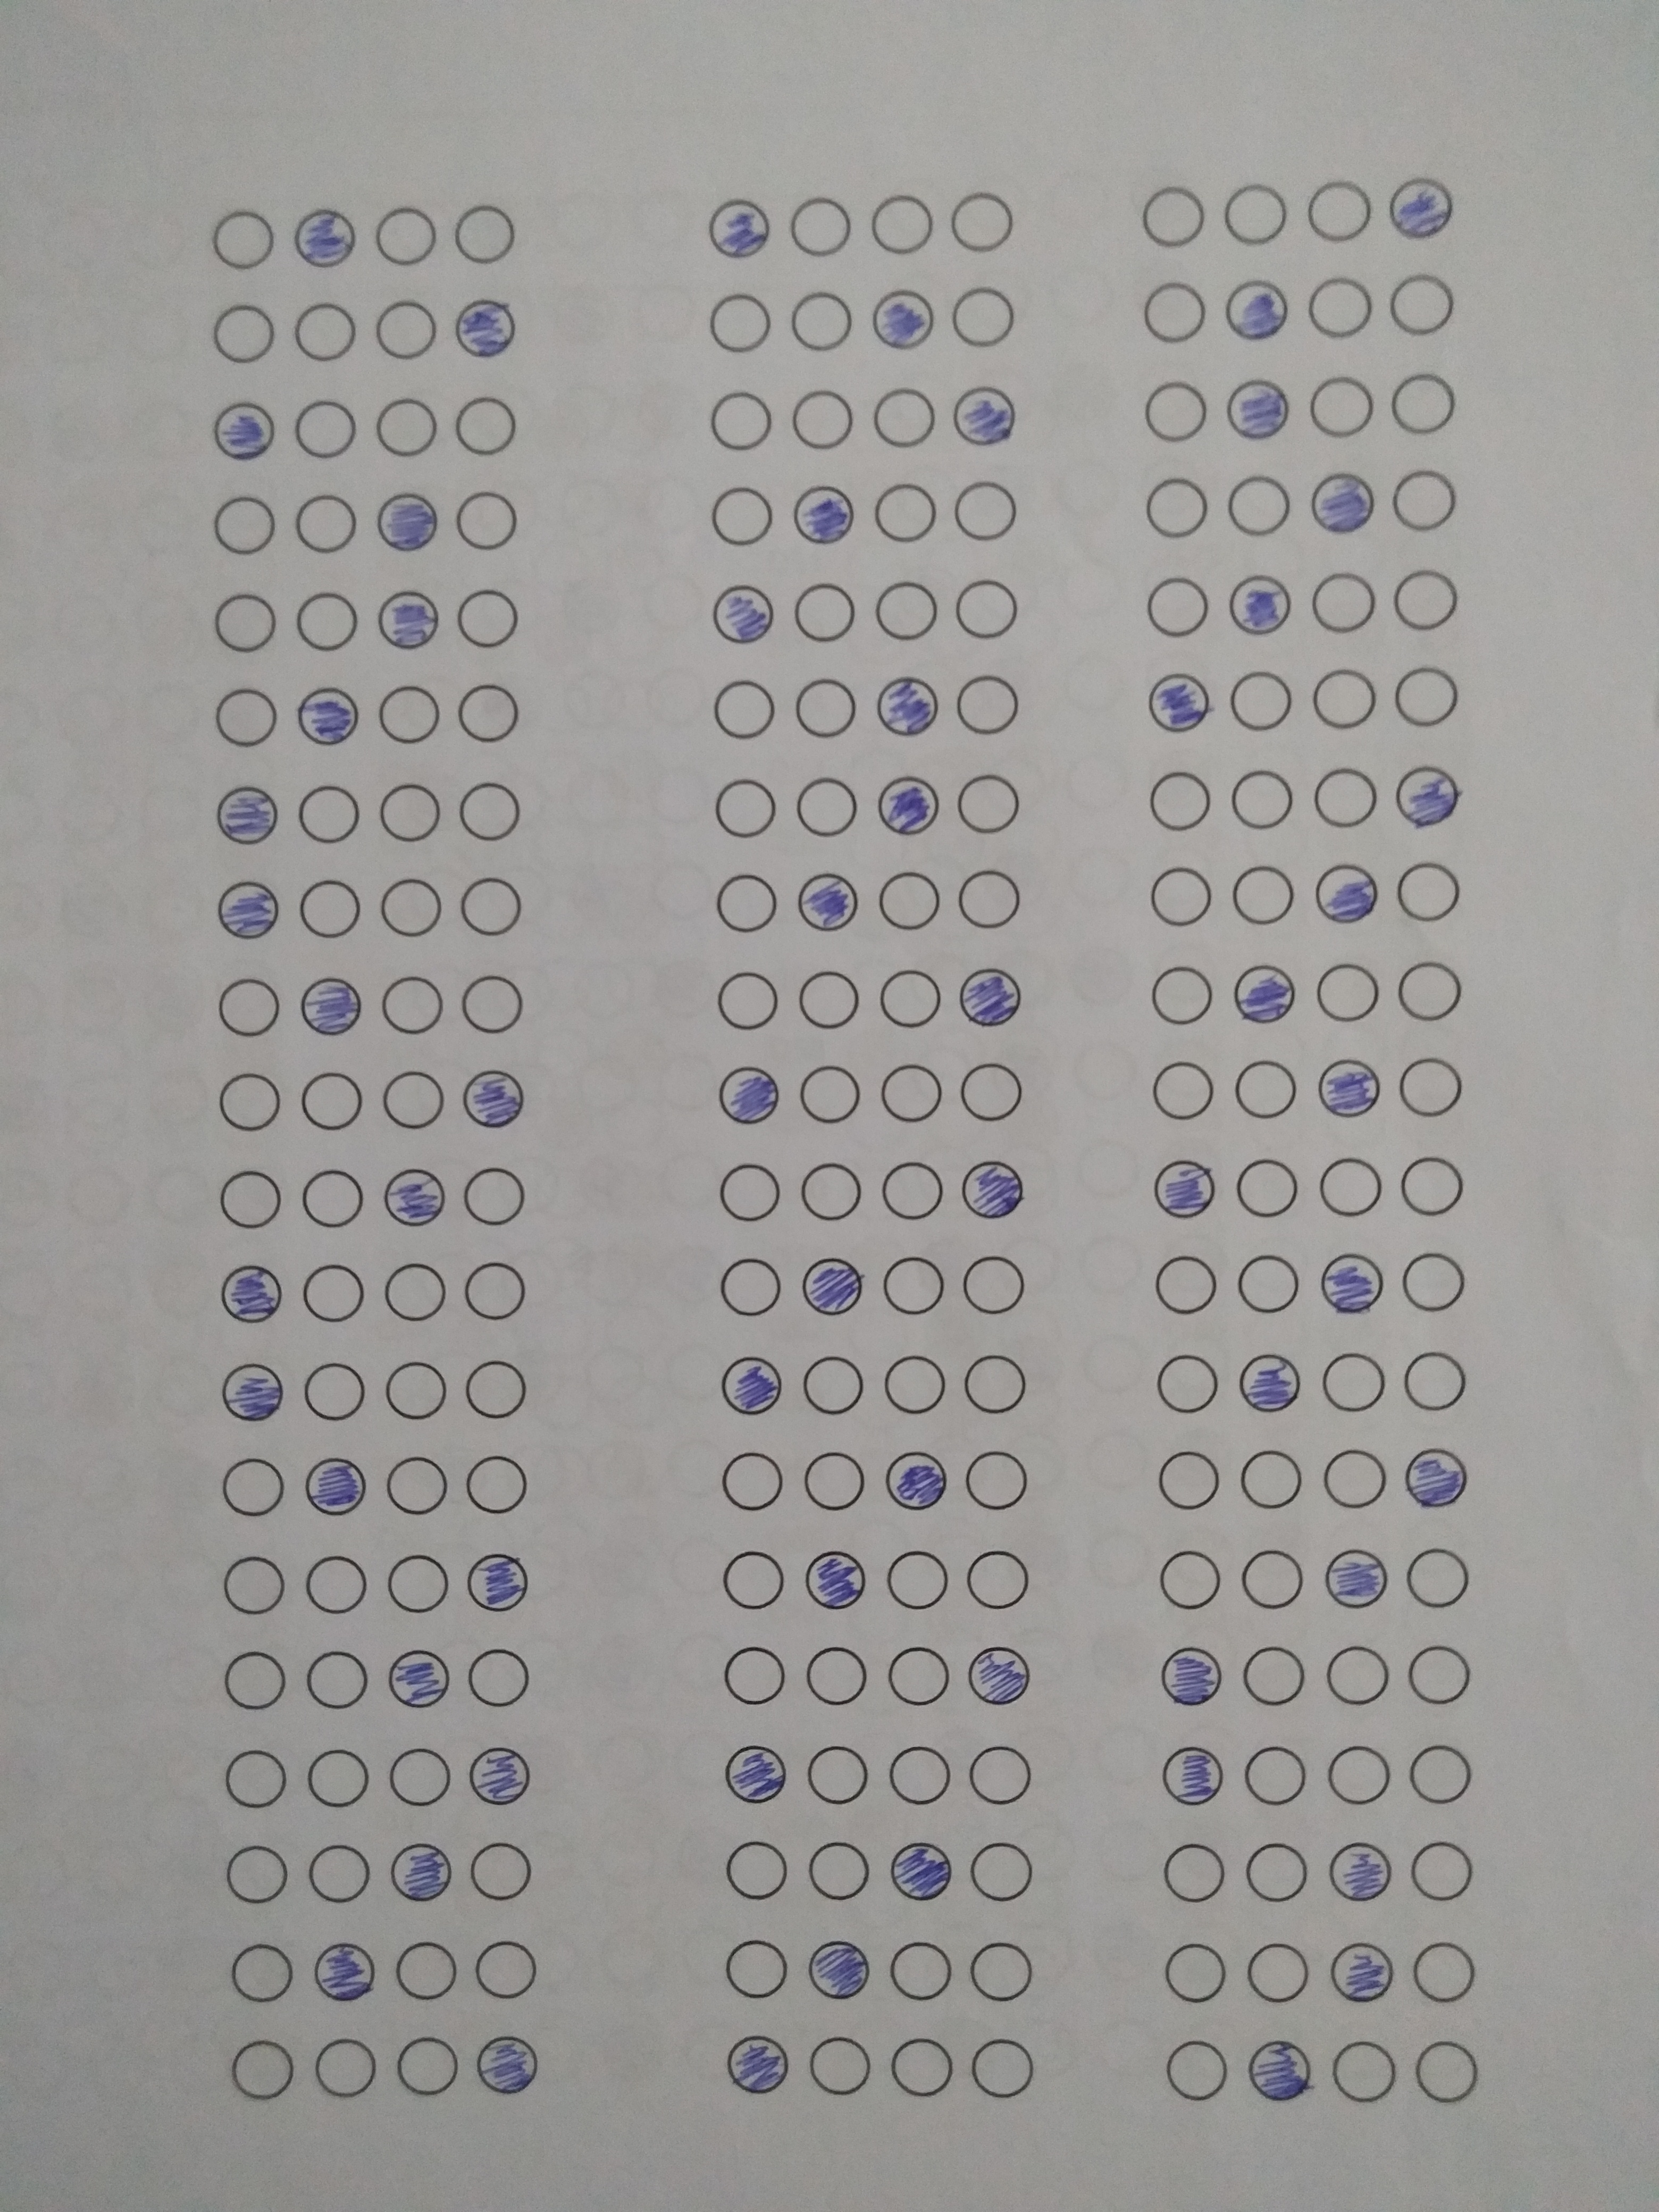not-c: (870, 385, 939, 448), (870, 193, 939, 256), (380, 1357, 450, 1420), (380, 1261, 450, 1324), (380, 1069, 450, 1132), (455, 975, 525, 1038), (305, 1844, 375, 1907), (1140, 282, 1209, 345), (209, 207, 277, 270), (875, 869, 943, 932), (711, 873, 779, 935), (953, 772, 1021, 834), (796, 775, 864, 838), (714, 780, 782, 843), (951, 676, 1019, 738), (789, 676, 857, 738), (709, 678, 777, 740), (955, 578, 1023, 641), (950, 477, 1018, 540), (708, 484, 775, 547), (788, 387, 856, 449), (706, 388, 774, 451), (706, 291, 774, 354), (946, 282, 1014, 345), (946, 193, 1014, 256), (788, 193, 856, 256), (383, 1451, 451, 1514), (221, 1454, 289, 1517), (298, 1360, 366, 1423), (460, 1359, 528, 1421), (460, 1165, 528, 1228), (301, 1259, 369, 1322), (303, 1167, 371, 1230), (216, 1071, 284, 1134), (378, 975, 446, 1038), (213, 975, 281, 1038), (455, 876, 523, 939), (295, 876, 362, 939), (455, 780, 523, 843), (295, 782, 362, 845), (455, 683, 523, 745), (453, 587, 521, 650), (213, 590, 281, 653), (293, 590, 361, 653), (211, 493, 279, 556), (450, 395, 518, 458), (371, 397, 439, 460), (371, 300, 439, 362), (291, 301, 359, 364), (209, 303, 277, 366), (371, 204, 439, 266), (718, 1642, 786, 1705), (800, 1743, 868, 1806), (969, 2034, 1037, 2097), (805, 2034, 873, 2097), (887, 1942, 955, 2005), (965, 1944, 1033, 2006), (965, 1839, 1033, 1902), (720, 1841, 788, 1904), (232, 2036, 300, 2099), (312, 2036, 380, 2099), (396, 2031, 464, 2094), (471, 1937, 538, 2000), (390, 1942, 458, 2005), (230, 1942, 298, 2005), (465, 1841, 533, 1904), (884, 1646, 951, 1709), (223, 1844, 291, 1907), (387, 1743, 455, 1806), (305, 1749, 373, 1811), (221, 1745, 289, 1808), (965, 1743, 1033, 1806), (798, 1646, 866, 1709), (964, 1550, 1032, 1613), (882, 1545, 950, 1608), (720, 1548, 788, 1611), (802, 1449, 870, 1512), (714, 1449, 782, 1512), (960, 1353, 1028, 1416), (802, 1353, 870, 1416), (960, 1251, 1028, 1313), (878, 1258, 946, 1320), (877, 1160, 945, 1223), (793, 1160, 861, 1223), (714, 1162, 782, 1224), (877, 1062, 945, 1125), (796, 1062, 864, 1125), (875, 968, 943, 1031), (714, 970, 782, 1033), (462, 1648, 530, 1710), (305, 1649, 373, 1712), (1237, 1451, 1305, 1514), (1319, 1449, 1387, 1512), (1152, 1352, 1220, 1414), (1319, 1353, 1387, 1416), (1403, 1352, 1471, 1414), (1155, 1256, 1223, 1318), (1234, 1254, 1302, 1317), (1234, 1158, 1302, 1221), (1316, 1157, 1384, 1219), (1148, 1059, 1216, 1122), (1230, 1057, 1298, 1120), (1394, 1059, 1462, 1122), (1145, 965, 1213, 1028), (1394, 862, 1462, 925), (1227, 768, 1295, 831), (1229, 866, 1297, 928), (1145, 867, 1213, 930), (1310, 768, 1378, 831), (1225, 669, 1293, 732), (1309, 665, 1377, 728), (1392, 564, 1460, 627), (1225, 474, 1293, 536), (1387, 469, 1455, 531), (1387, 273, 1455, 336), (1140, 186, 1208, 249), (1305, 181, 1373, 244), (1164, 2034, 1232, 2097), (1328, 2036, 1396, 2099), (1413, 2036, 1481, 2099), (1244, 1942, 1312, 2005), (1406, 1940, 1474, 2003), (1241, 1839, 1309, 1902), (1241, 1745, 1309, 1808), (1326, 1743, 1394, 1806), (1405, 1644, 1473, 1707), (1155, 1550, 1223, 1613), (1239, 1547, 1307, 1609), (1403, 1545, 1471, 1608), (1154, 1447, 1222, 1510), (380, 1554, 450, 1615), (889, 2036, 958, 2097), (877, 1355, 946, 1416), (871, 582, 939, 643), (791, 582, 859, 643), (871, 482, 939, 543), (788, 289, 856, 350), (220, 1550, 288, 1611), (305, 1552, 373, 1613), (462, 1454, 530, 1515), (458, 1259, 526, 1320), (213, 1169, 281, 1230), (298, 1069, 366, 1130), (376, 874, 444, 935), (375, 782, 443, 843), (211, 685, 279, 745), (376, 685, 444, 745), (451, 489, 519, 550), (293, 493, 361, 554), (291, 399, 359, 460), (451, 204, 519, 265), (725, 1944, 793, 2005), (803, 1841, 871, 1902), (880, 1747, 948, 1808), (960, 1447, 1028, 1508), (714, 1258, 782, 1318), (957, 1062, 1025, 1123), (955, 869, 1023, 930), (793, 968, 861, 1029), (221, 1653, 289, 1714), (1398, 1251, 1466, 1312), (1399, 1157, 1467, 1217), (1392, 665, 1460, 726), (1312, 961, 1380, 1022), (1396, 961, 1464, 1022), (1147, 770, 1215, 831), (1145, 575, 1213, 636), (1310, 571, 1378, 632), (1141, 477, 1209, 538), (1307, 378, 1375, 439), (1141, 380, 1209, 441), (1387, 373, 1455, 434), (1303, 275, 1371, 336), (1220, 186, 1288, 247), (1162, 1940, 1230, 2001), (1159, 1843, 1227, 1904), (1408, 1839, 1476, 1900), (1406, 1742, 1474, 1803), (1241, 1646, 1309, 1707), (1323, 1646, 1391, 1707)
taken-c: (1246, 2034, 1316, 2104), (1309, 469, 1377, 540), (376, 585, 444, 655), (1392, 761, 1462, 829), (1230, 960, 1300, 1028), (1326, 1939, 1396, 2006), (1321, 1545, 1392, 1611), (1387, 172, 1455, 240), (1223, 275, 1291, 343), (1310, 862, 1382, 927), (1225, 373, 1291, 441), (1147, 667, 1213, 735), (218, 1263, 286, 1329), (462, 1550, 530, 1616), (312, 1940, 380, 2006), (803, 1545, 870, 1613), (1314, 1057, 1384, 1122), (1399, 1446, 1469, 1510), (946, 387, 1019, 448), (373, 488, 439, 554), (213, 878, 281, 942), (706, 195, 774, 260), (383, 1165, 450, 1230), (877, 773, 943, 838), (807, 1937, 871, 2003), (1157, 1642, 1223, 1707), (455, 294, 518, 362), (953, 965, 1021, 1028), (796, 871, 864, 934), (218, 1360, 286, 1423), (716, 1355, 784, 1418), (1317, 1252, 1385, 1315), (1237, 1352, 1305, 1414), (1162, 1742, 1225, 1810), (460, 1069, 530, 1130), (1326, 1841, 1396, 1902), (711, 582, 775, 646), (1152, 1155, 1216, 1219), (211, 397, 277, 460), (298, 974, 364, 1036), (718, 1064, 784, 1127), (875, 678, 941, 740), (389, 1648, 455, 1710), (871, 287, 936, 350), (1229, 573, 1291, 637), (725, 2033, 789, 2095), (723, 1742, 788, 1804), (885, 1449, 951, 1510), (958, 1162, 1026, 1221), (967, 1644, 1030, 1707), (802, 1254, 864, 1317), (293, 207, 357, 268), (296, 686, 361, 747), (214, 784, 279, 845), (387, 1843, 451, 1904), (889, 1843, 955, 1902), (791, 484, 854, 545), (477, 2034, 540, 2095), (305, 1456, 366, 1517), (469, 1747, 533, 1804)
